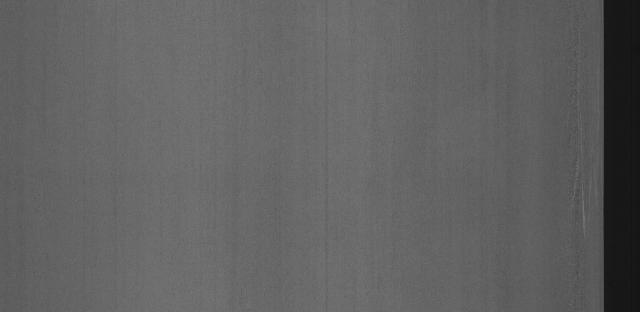silk_spot: (552, 154, 600, 238)
